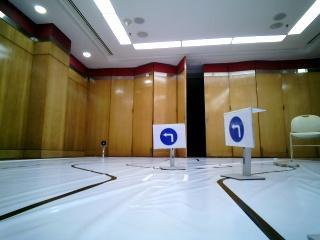left: (154, 128, 186, 149), (227, 116, 251, 144)
